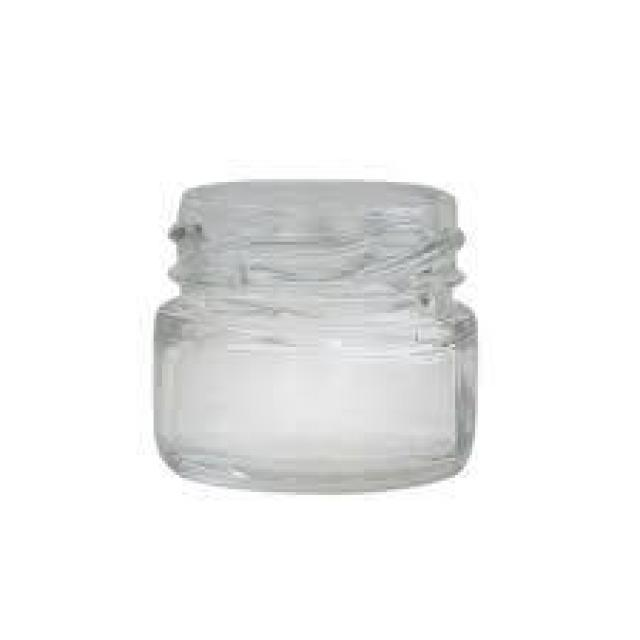non-organic waste: (137, 169, 489, 496)
